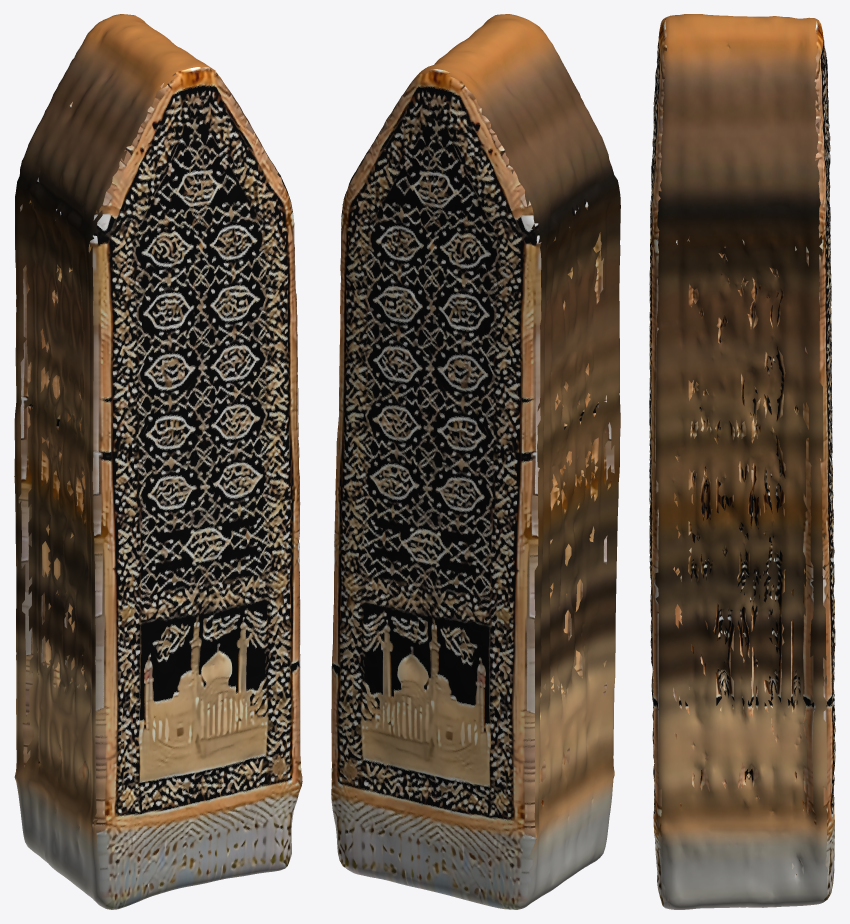
Rendered from kfl-2206.glb.
3 views of the same model, side by side, from view 1: azimuth 30°, elevation 25°; view 2: azimuth 150°, elevation 25°; view 3: azimuth 270°, elevation 25° (orthographic).
Parts seen in each view (by area): view 1: kfl-2206; view 2: kfl-2206; view 3: kfl-2206.
Boxes of the visible parts, bbox=[...] form: kfl-2206: bbox=[14, 14, 302, 909]; kfl-2206: bbox=[331, 14, 620, 909]; kfl-2206: bbox=[649, 14, 835, 909].
Bounding box in the file's own units: 0.2682 × 0.9946 × 0.1989.
Materials: 4 (4 with a texture image).
